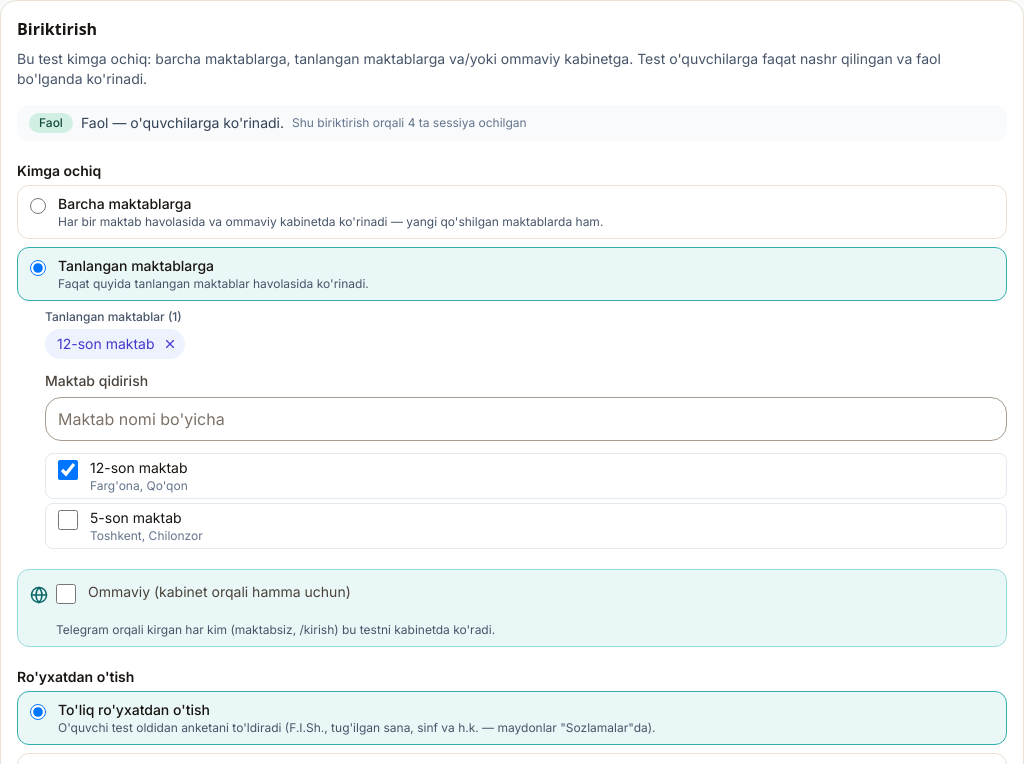
TestAssignmentCard › "Barcha maktablarga" — isPublic: true, schoolIds: [], ommaviy kabinet belgisi avtomatik
The image size is (1024, 764).
Step 1. Click the radio button labelled "Barcha maktablarga" → point(38, 206), box [30, 198, 46, 214]
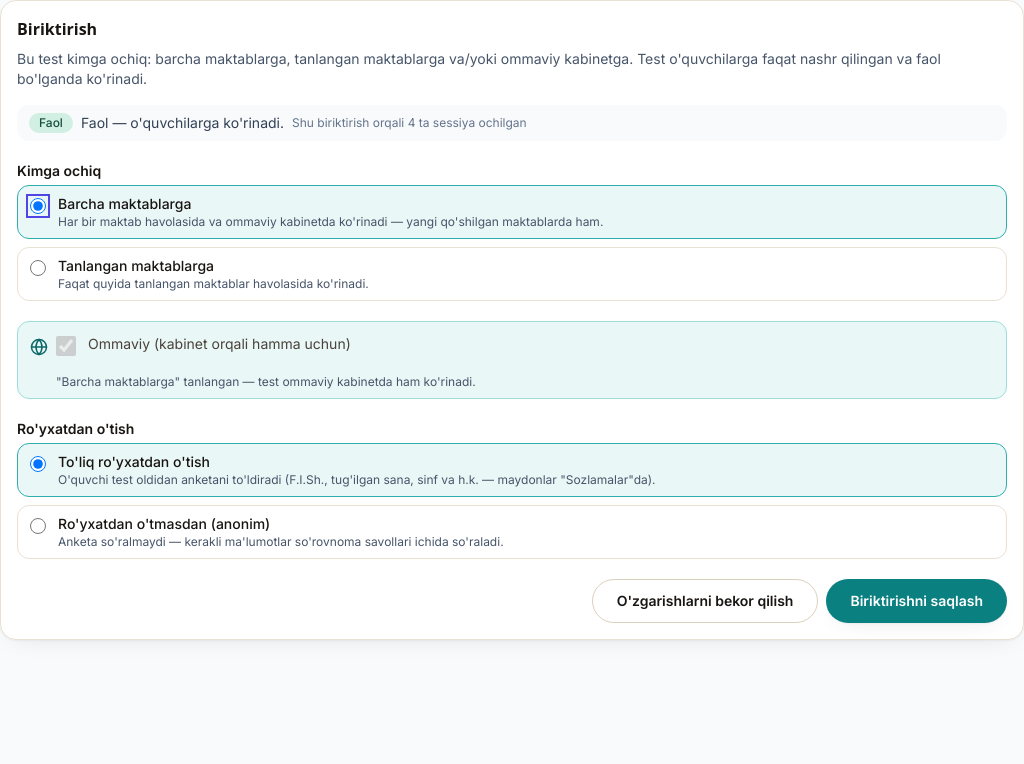
Result: the element with test id "assignment-school-picker" is gone
Result: the checkbox labelled "Ommaviy (kabinet orqali hamma uchun)" is checked at [56, 336, 76, 356]
Result: the checkbox labelled "Ommaviy (kabinet orqali hamma uchun)" is disabled at [56, 336, 76, 356]
Step 2. Click the button "Biriktirishni saqlash" → point(917, 601), box [826, 579, 1007, 623]
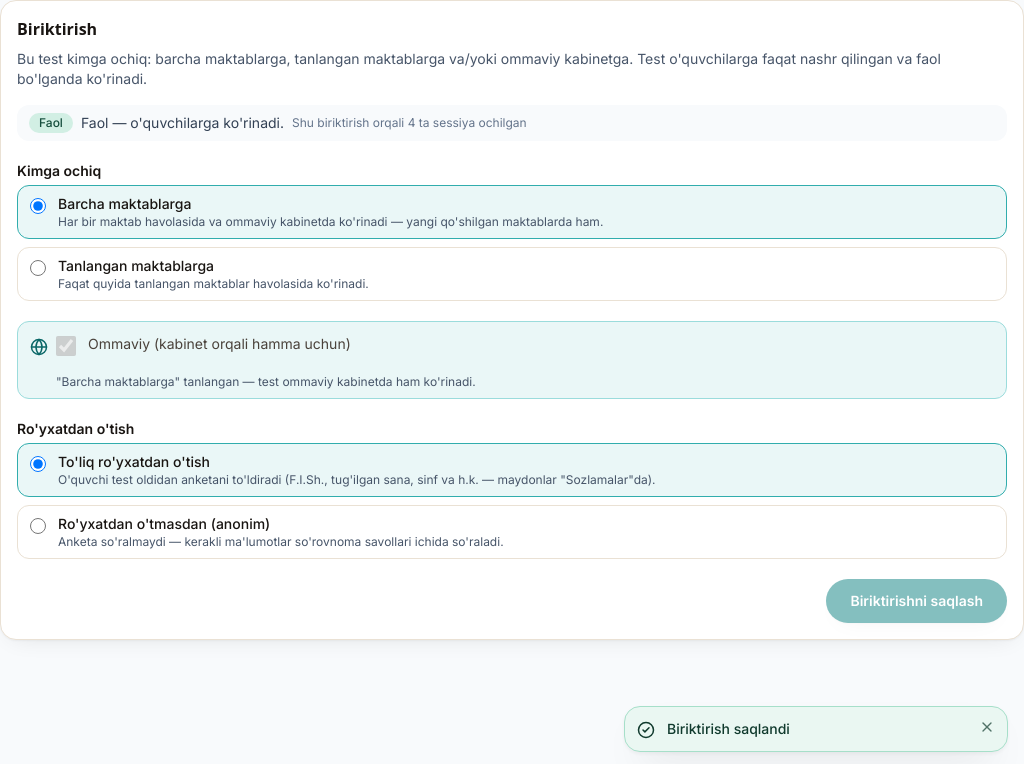
Result: the radio button labelled "Barcha maktablarga" is checked at [30, 198, 46, 214]
Result: the text "Biriktirish saqlandi" is shown at [667, 720, 790, 737]
